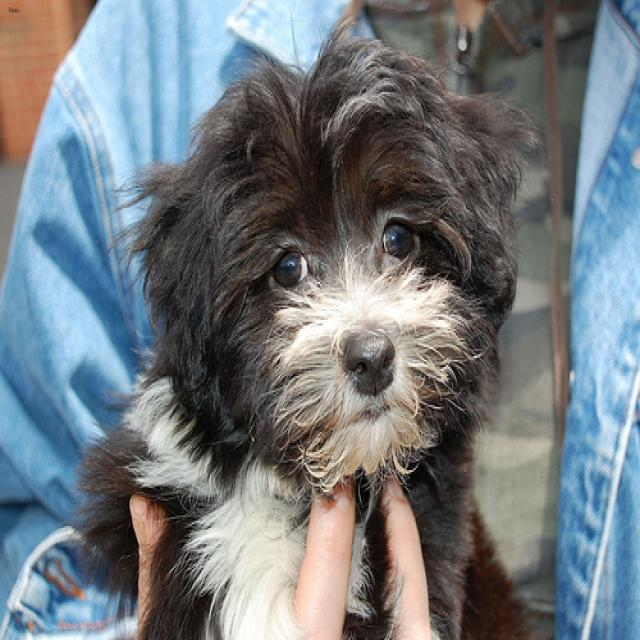dog-havanese: (69, 7, 562, 636)
